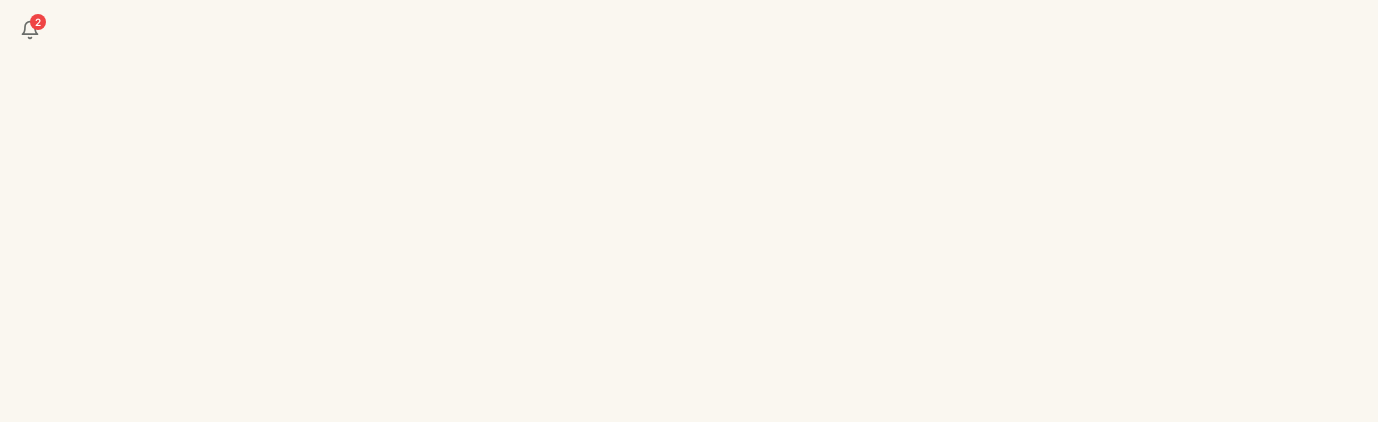
NotificationBell › opens the dropdown and shows notifications when clicked
Step 1. Click the button named "Notifications" → (30, 30), box [12,12,48,48]
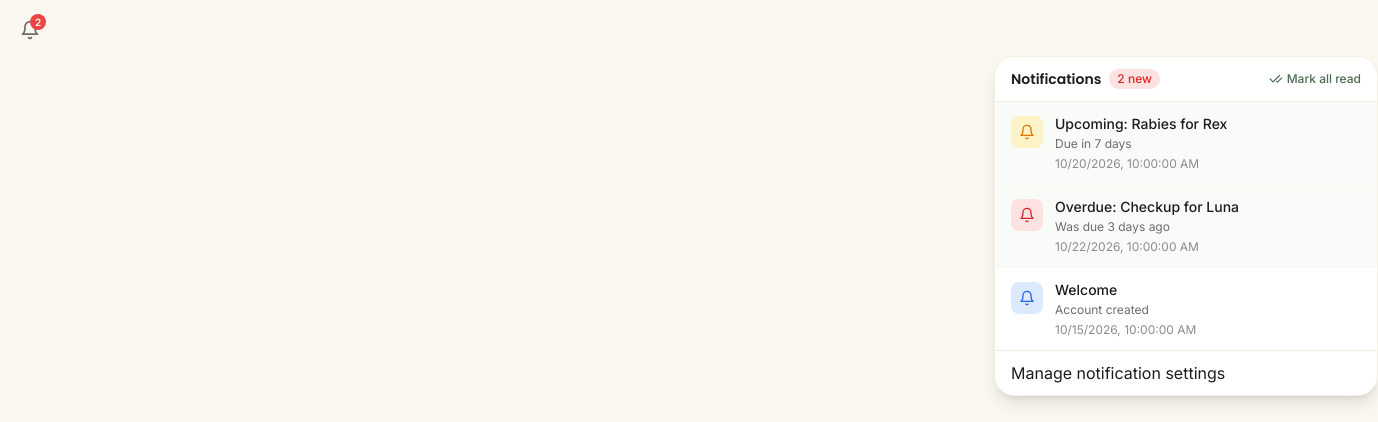
Now the text "Upcoming: Rabies for Rex" is shown, box [1055,115,1227,132]
Now the text "Overdue: Checkup for Luna" is shown, box [1055,198,1239,215]
